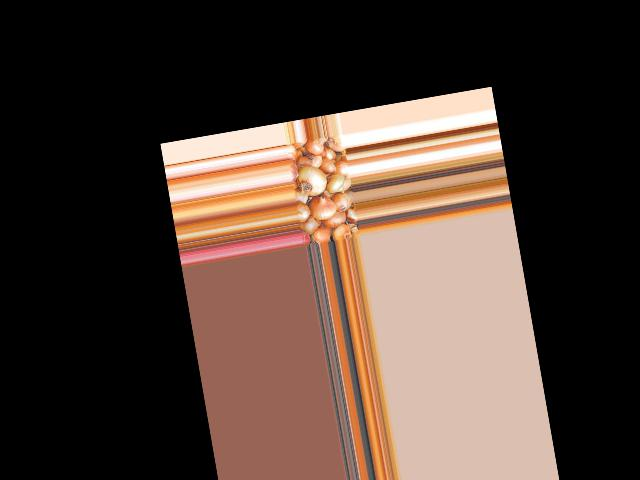onion: (330, 191, 352, 213)
